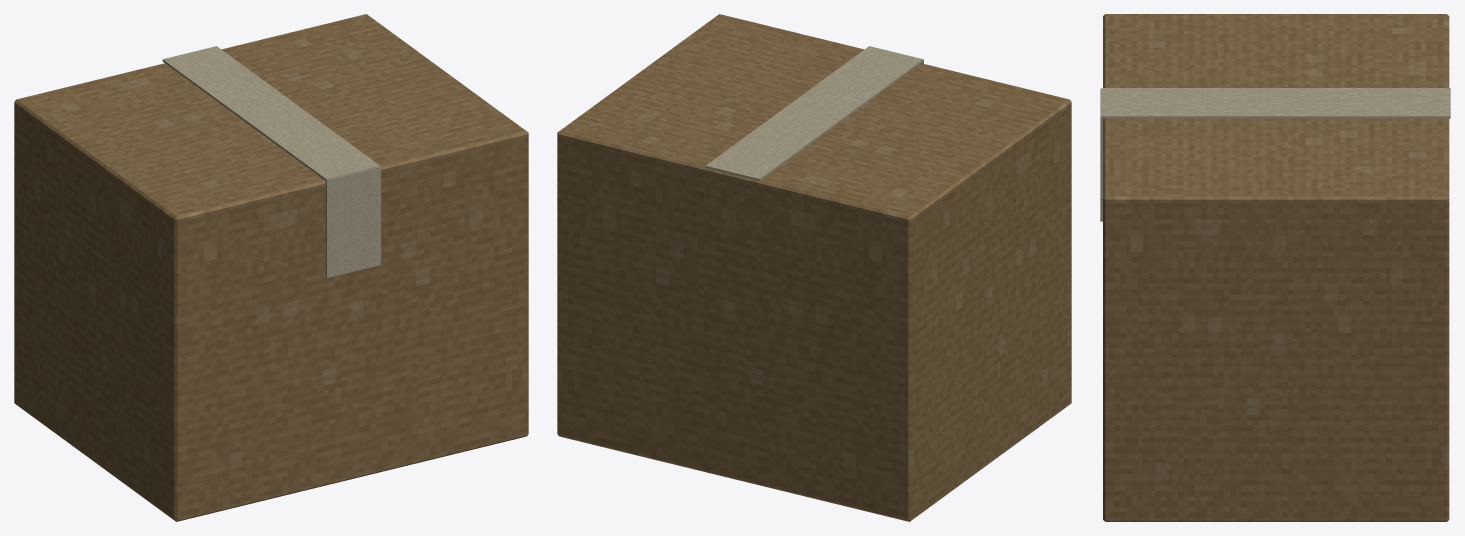
File: cardboard_supply_box.glb
3 renders of one model, left to right at view 1: azimuth 30°, elevation 25°; view 2: azimuth 150°, elevation 25°; view 3: azimuth 270°, elevation 25°, orthographic. The views are drawn at different scales.
Visible parts, largest first — view 1: cardboard_supply_box; view 2: cardboard_supply_box; view 3: cardboard_supply_box.
Part boxes in pixels (x1,y1,x2,y2): cardboard_supply_box: (14, 14, 528, 521); cardboard_supply_box: (557, 14, 1071, 521); cardboard_supply_box: (1100, 14, 1450, 521).
Bounding box in the file's own units: 0.34 × 0.2825 × 0.273.
3 materials, 3 textured.
